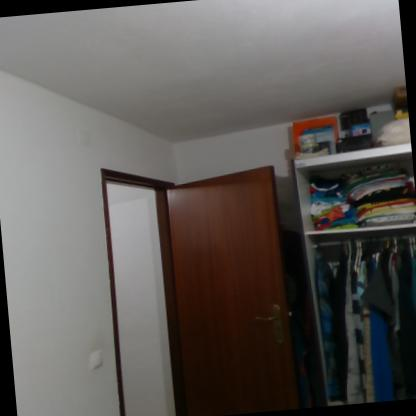open: (84, 148, 312, 415)
